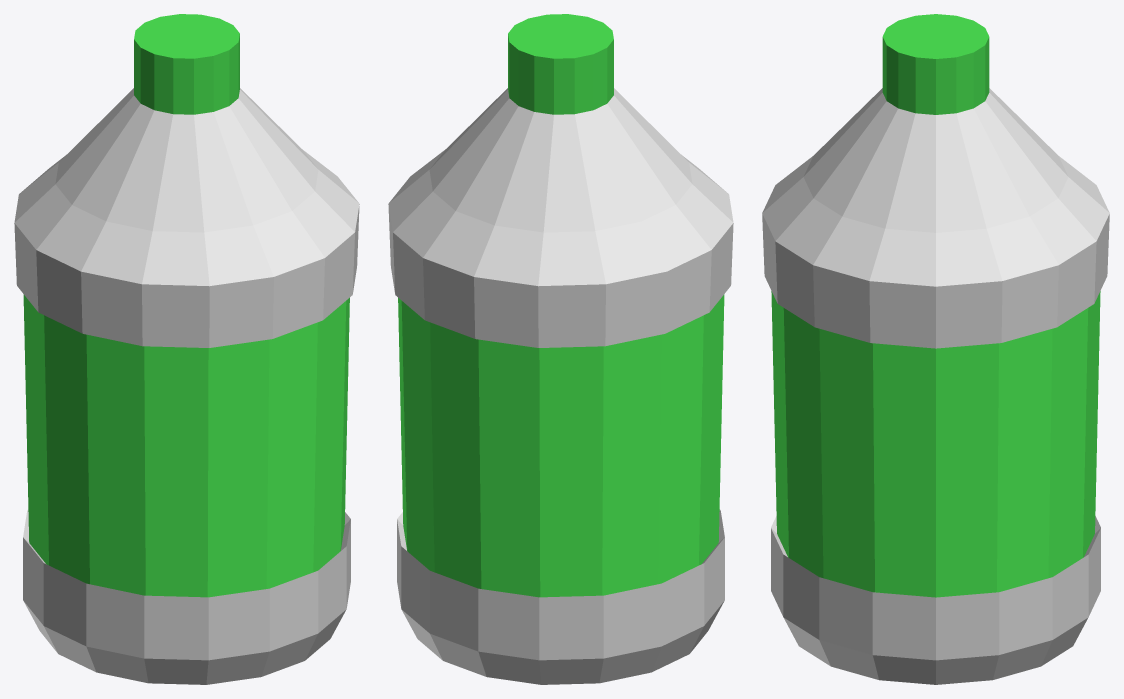
Rendered from green_jug.glb.
3 views of the same model, side by side, from view 1: azimuth 30°, elevation 25°; view 2: azimuth 150°, elevation 25°; view 3: azimuth 270°, elevation 25° (orthographic).
Parts seen in each view (by area): view 1: Cylinder.015, Cylinder.014, Cylinder.013, Cylinder.012; view 2: Cylinder.015, Cylinder.014, Cylinder.013, Cylinder.012; view 3: Cylinder.015, Cylinder.014, Cylinder.013, Cylinder.012.
Part boxes in pixels (x1,y1,x2,y2): Cylinder.015: (23,294,349,597); Cylinder.014: (14,88,359,347); Cylinder.013: (23,509,350,684); Cylinder.012: (134,14,239,114); Cylinder.015: (398,294,724,597); Cylinder.014: (388,88,733,347); Cylinder.013: (397,509,724,684); Cylinder.012: (508,14,613,114); Cylinder.015: (771,291,1100,597); Cylinder.014: (762,88,1109,348); Cylinder.013: (771,516,1100,684); Cylinder.012: (882,14,989,114).
Bounding box in the file's own units: 3.5 × 6.51 × 3.5.
